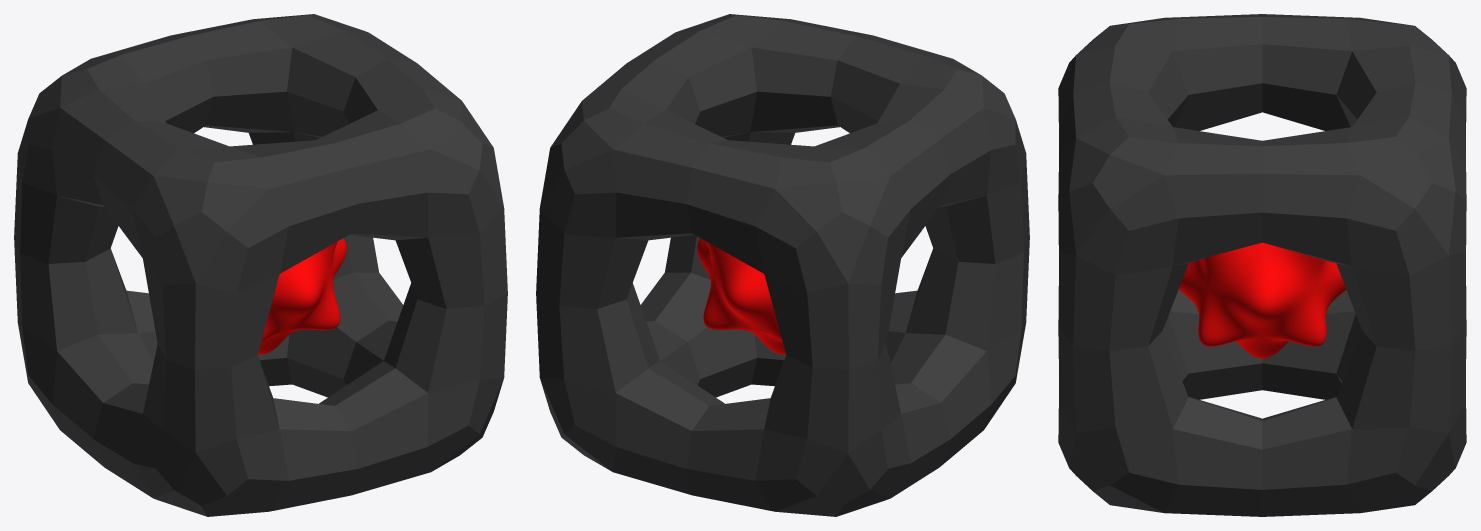
The model's file is artifact_1_.fbx.
3 renders of one model, left to right at view 1: azimuth 30°, elevation 25°; view 2: azimuth 150°, elevation 25°; view 3: azimuth 270°, elevation 25°, orthographic. The views are drawn at different scales.
Parts seen in each view (by area): view 1: Куб, Куб.002; view 2: Куб, Куб.002; view 3: Куб, Куб.002.
Boxes of the visible parts, left/top/right/bottom form: Куб: left=14, top=14, right=507, bottom=516; Куб.002: left=258, top=238, right=346, bottom=354; Куб: left=536, top=14, right=1029, bottom=516; Куб.002: left=697, top=238, right=785, bottom=354; Куб: left=1058, top=14, right=1466, bottom=516; Куб.002: left=1178, top=242, right=1346, bottom=358.
Bounding box in the file's own units: 788 × 788 × 788.
